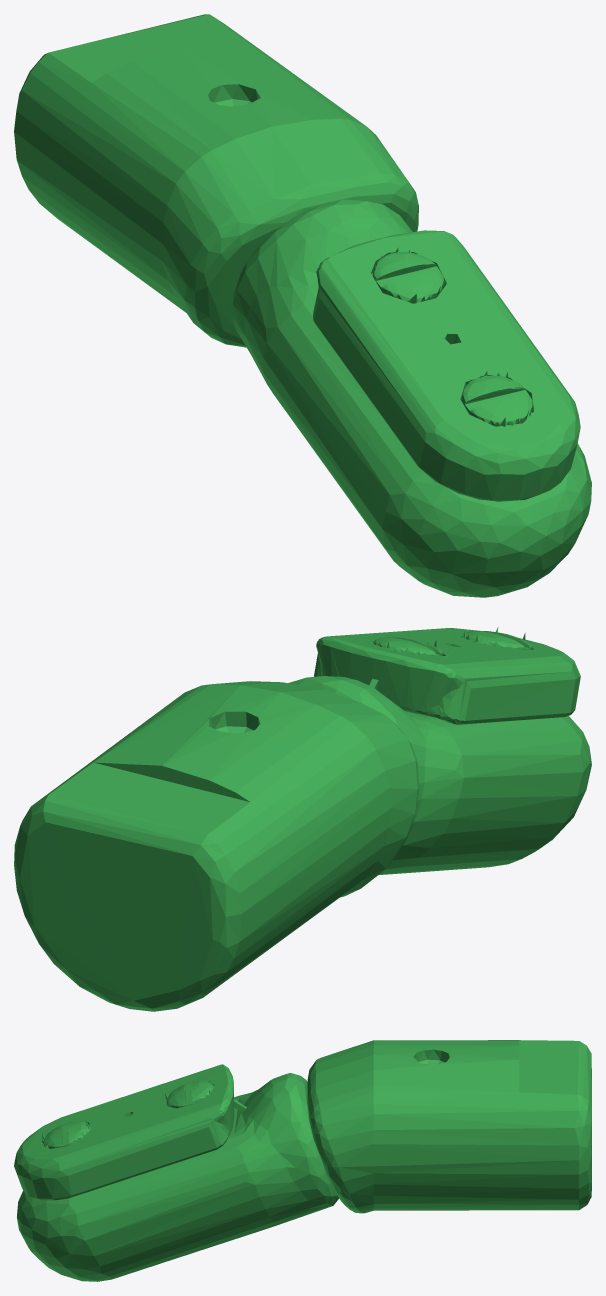
The model's file is th_distal_bt_2p.obj.
The picture shows the model from 3 angles, top to bottom: view 1: azimuth 30°, elevation 25°; view 2: azimuth 150°, elevation 25°; view 3: azimuth 270°, elevation 25°; orthographic projection. The views are drawn at different scales.
Visible parts, largest first — view 1: Biotac_Decimated; view 2: Biotac_Decimated; view 3: Biotac_Decimated.
Boxes of the visible parts, x1,y1,x2,y2 form: Biotac_Decimated: (14, 14, 591, 597); Biotac_Decimated: (14, 627, 591, 1011); Biotac_Decimated: (14, 1040, 591, 1281).
Bounding box in the file's own units: 0.6302 × 0.824 × 1.98.
